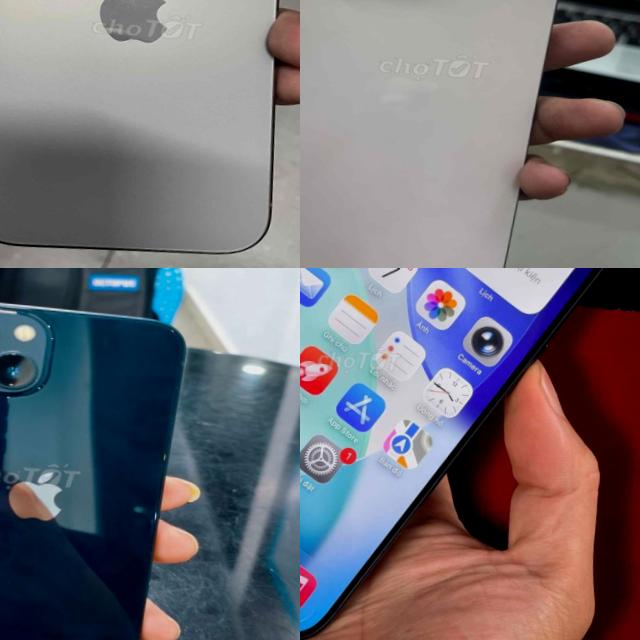gen_12_13: (0, 278, 223, 640)
gen_15: (0, 0, 300, 268)
gen_16: (300, 0, 556, 268)
gen_17: (300, 268, 640, 640)
